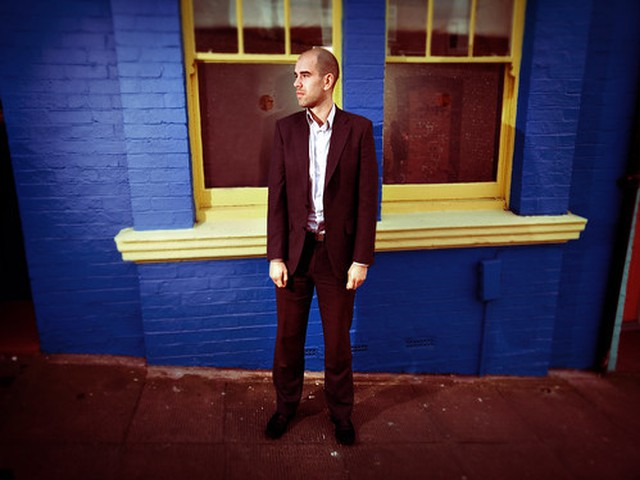Person: (253, 40, 383, 442)
